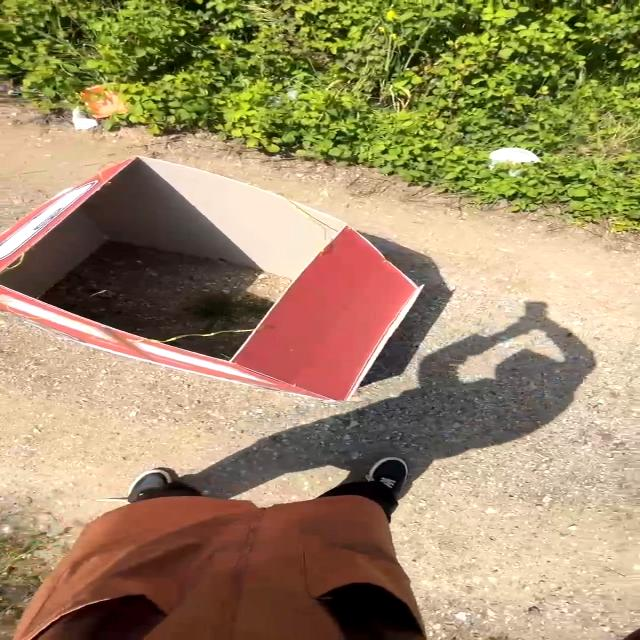red_car: (0, 138, 471, 410)
